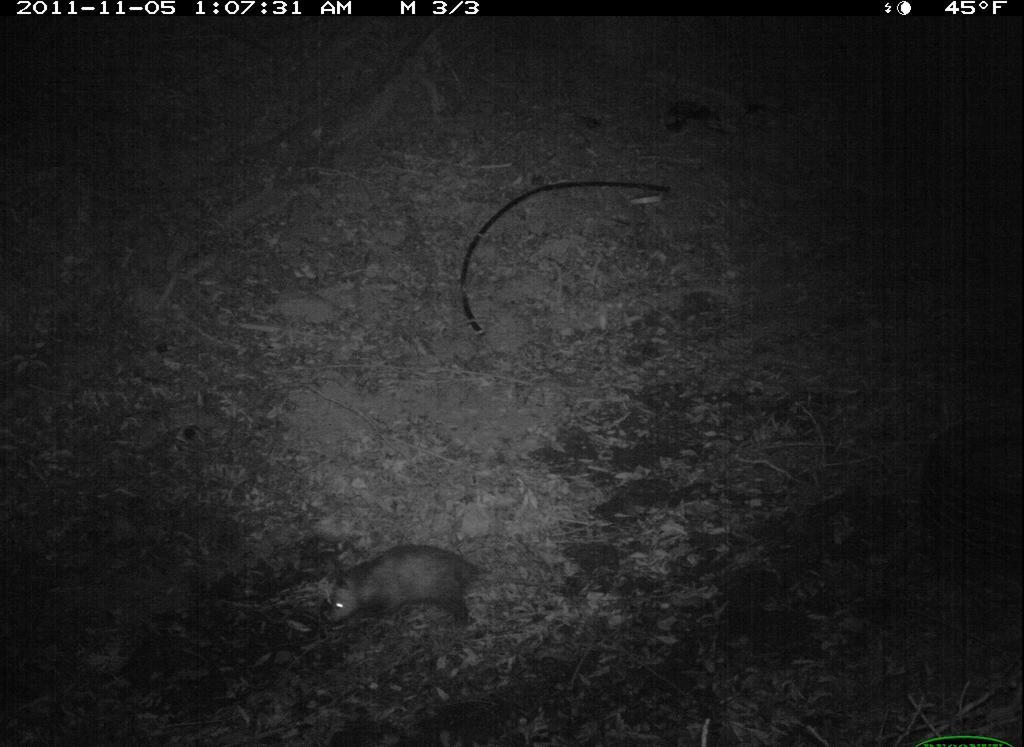opossum: (290, 533, 511, 653)
